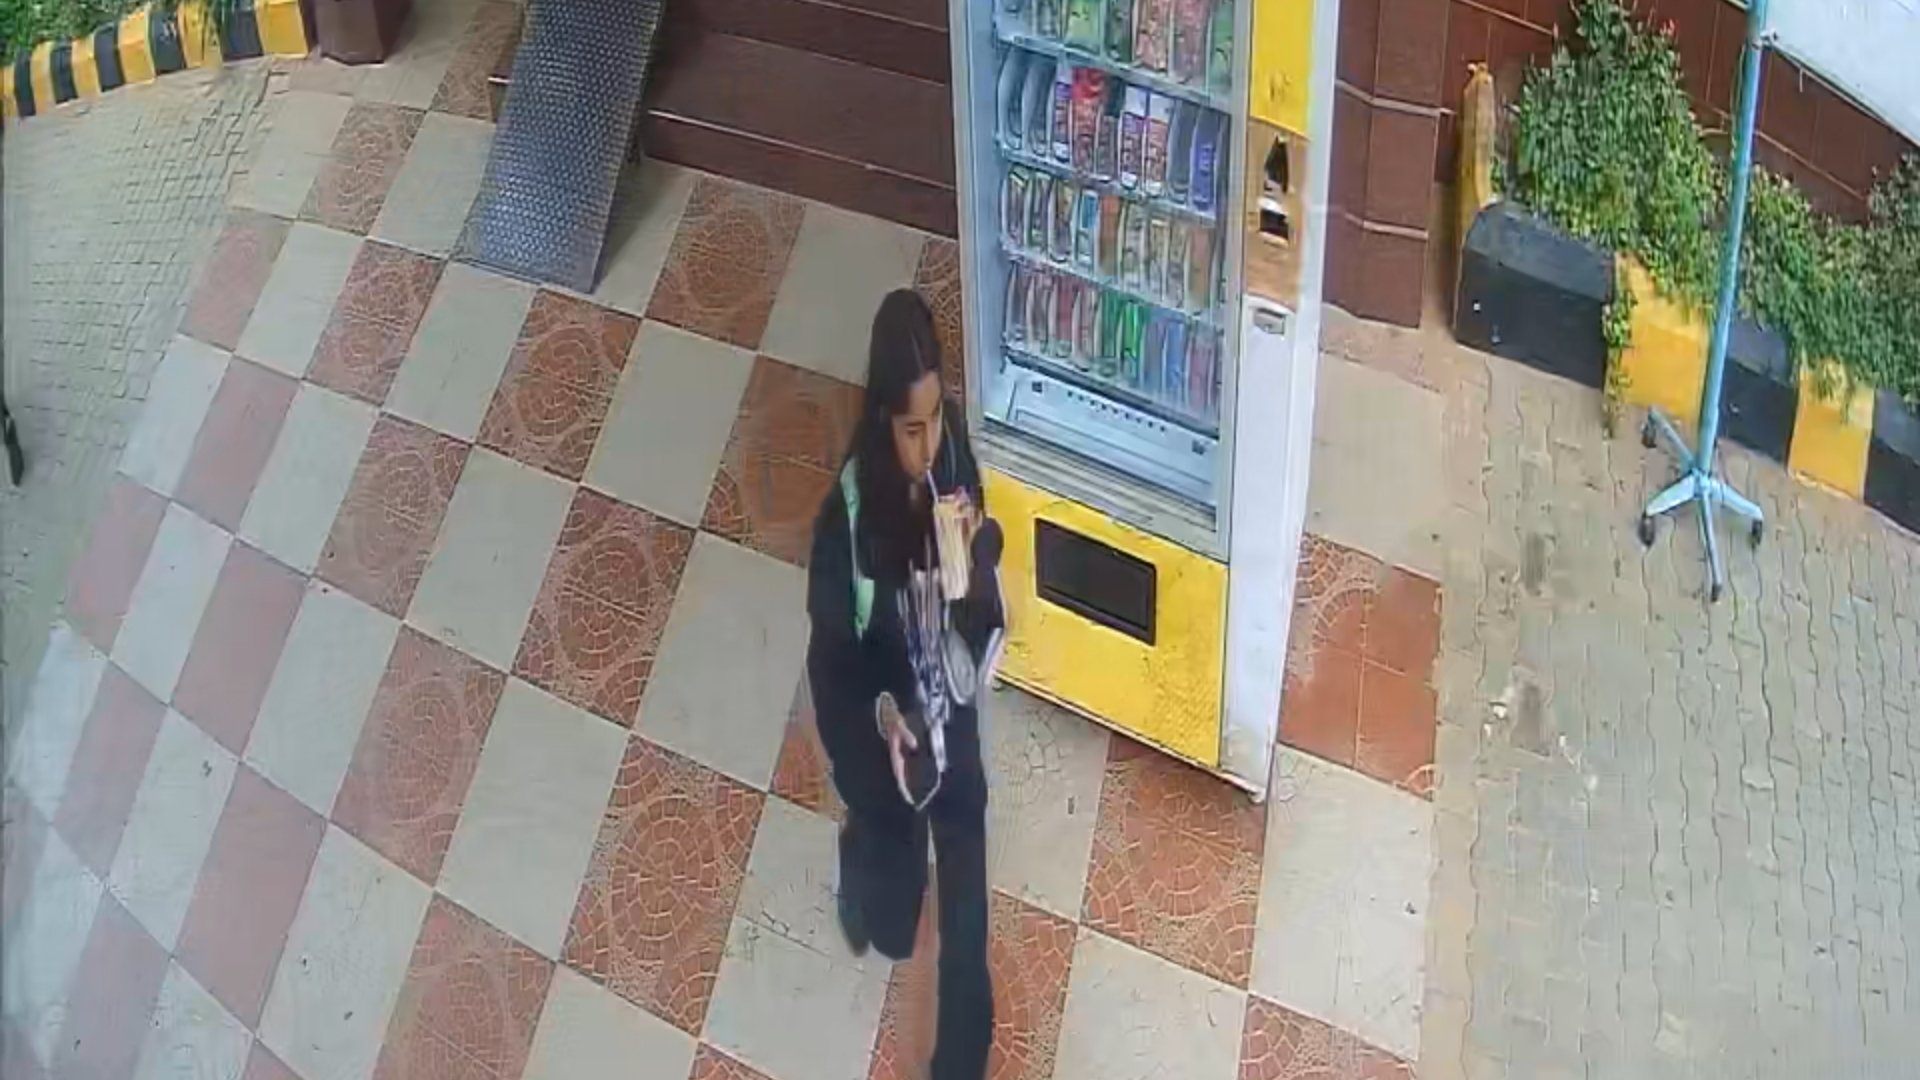not intruder: (829, 276, 1035, 1080)
